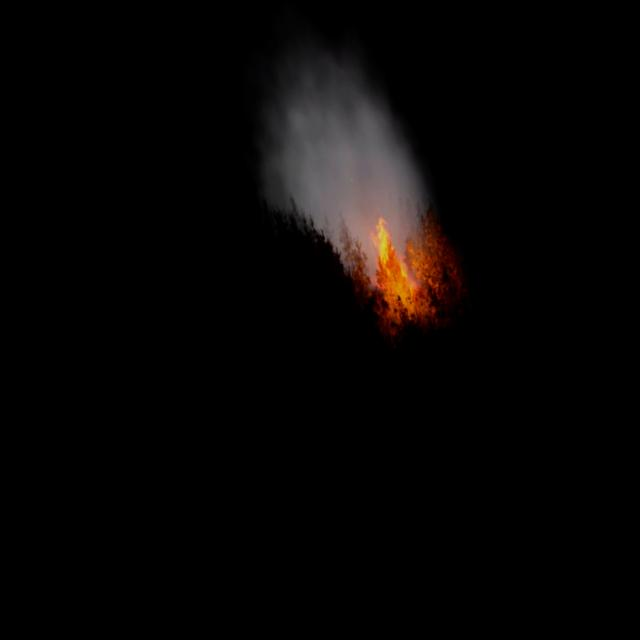fire: (364, 213, 414, 301)
smoke: (192, 0, 471, 327)
